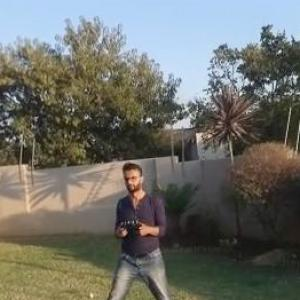follow: (98, 158, 186, 299)
